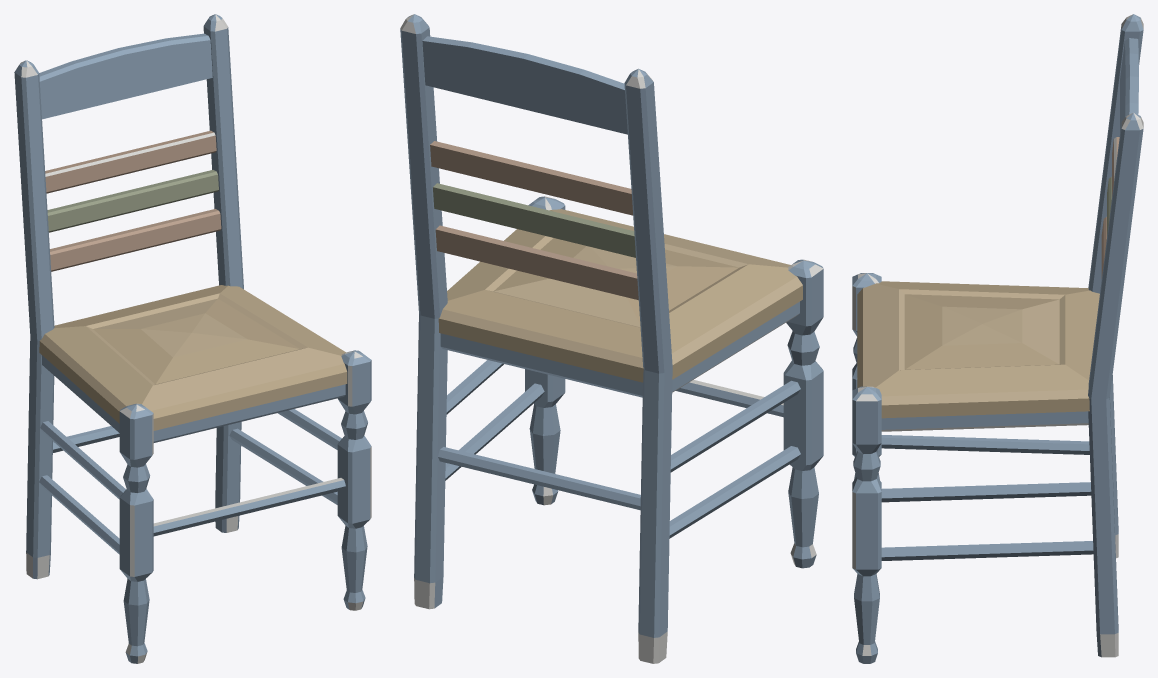
The model's file is chair.glb.
3 views of the same model, side by side, from view 1: azimuth 30°, elevation 25°; view 2: azimuth 150°, elevation 25°; view 3: azimuth 270°, elevation 25° (orthographic). The views are drawn at different scales.
Visible parts, largest first — view 1: chair; view 2: chair; view 3: chair.
Boxes of the visible parts, x1,y1,x2,y2 form: chair: (14,14,371,663); chair: (400,14,823,663); chair: (852,14,1143,663).
Size of the model in its own units: 0.46 by 0.92 by 0.4492.
